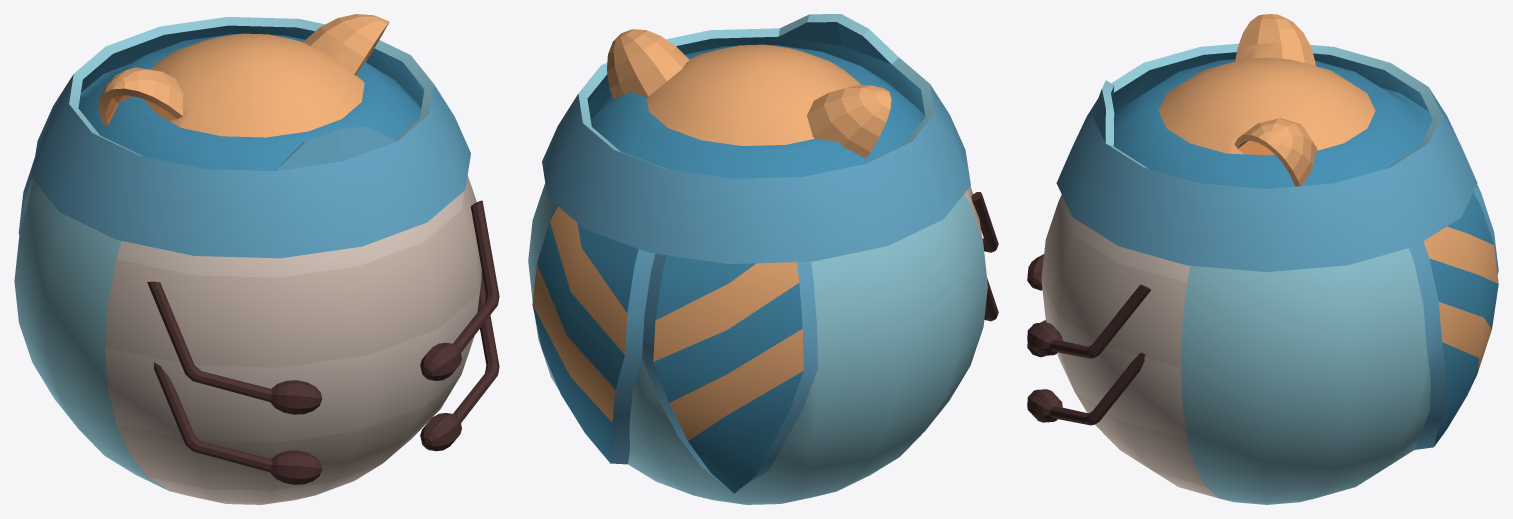
Rendered from blue_ball.fbx.
3 views of the same model, side by side, from view 1: azimuth 30°, elevation 25°; view 2: azimuth 150°, elevation 25°; view 3: azimuth 270°, elevation 25° (orthographic). The views are drawn at different scales.
Visible parts, largest first — view 1: blue_ball; view 2: blue_ball; view 3: blue_ball.
Boxes of the visible parts, x1=… form: blue_ball: x1=14, y1=14, x2=499, y2=504; blue_ball: x1=528, y1=14, x2=998, y2=504; blue_ball: x1=1027, y1=14, x2=1498, y2=504.
Size of the model in its own units: 3.01 by 3.04 by 3.14.
